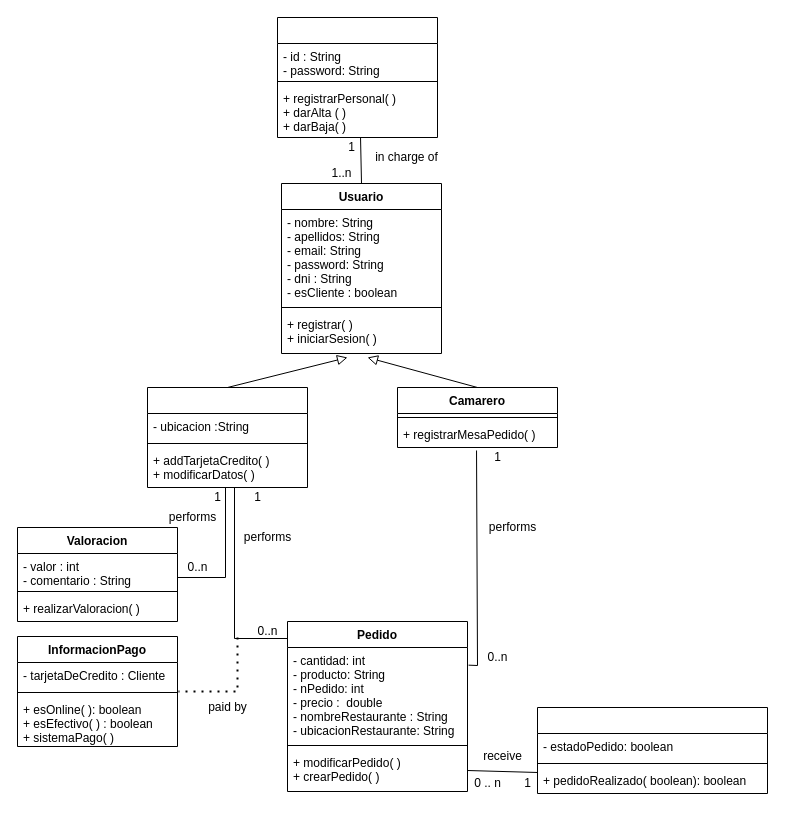
The diagram is 785 pixels wide and 814 high, and some of its shapes have lost their labels. Each missing label, with the box of its shape:
Administrador: (276, 16, 438, 138)
Cliente: (146, 386, 308, 488)
Cocinero: (536, 706, 768, 794)
